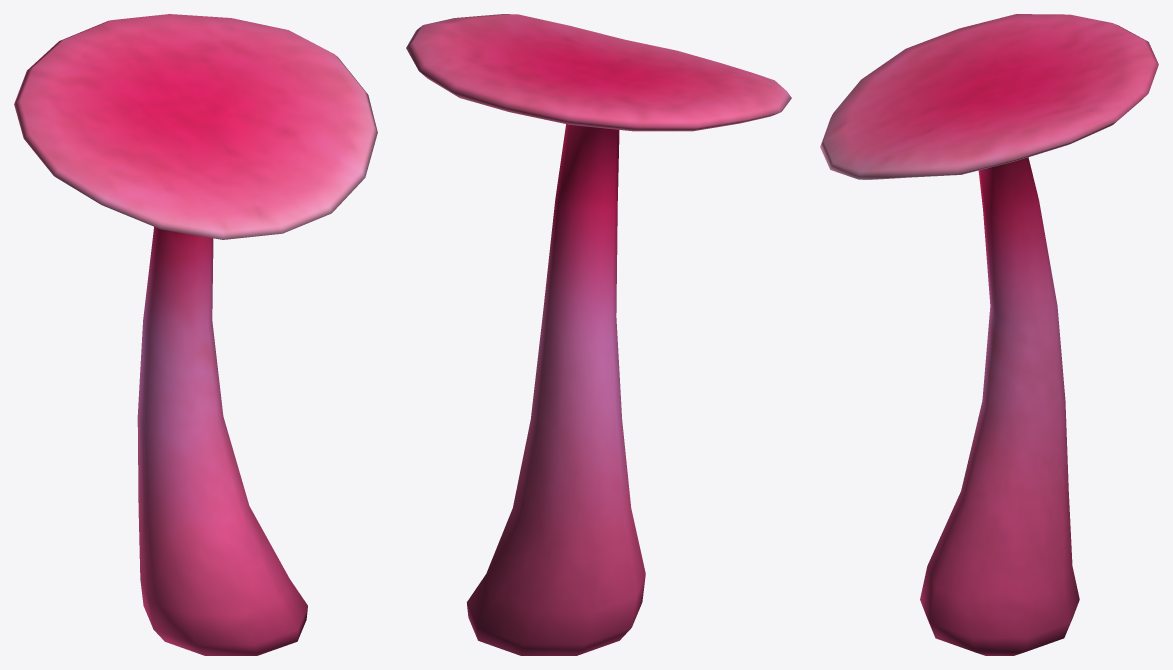
Rendered from Cartoon Seaweed_13-2-40.fbx.
3 renders of one model, left to right at view 1: azimuth 30°, elevation 25°; view 2: azimuth 150°, elevation 25°; view 3: azimuth 270°, elevation 25°, orthographic. The views are drawn at different scales.
Visible parts, largest first — view 1: Cartoon Seaweed_13.2.40; view 2: Cartoon Seaweed_13.2.40; view 3: Cartoon Seaweed_13.2.40.
Boxes of the visible parts, left/top/right/bottom form: Cartoon Seaweed_13.2.40: left=14, top=14, right=377, bottom=655; Cartoon Seaweed_13.2.40: left=406, top=14, right=791, bottom=655; Cartoon Seaweed_13.2.40: left=820, top=14, right=1158, bottom=655.
Bounding box in the file's own units: 7.02 × 12.27 × 6.77.
Materials: 1 (1 with a texture image).
